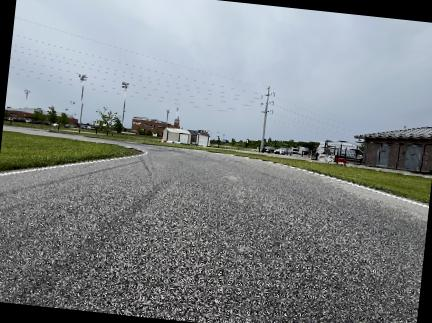Grass: (111, 138, 431, 202), (0, 131, 138, 171)
Lane: (0, 141, 428, 322)
